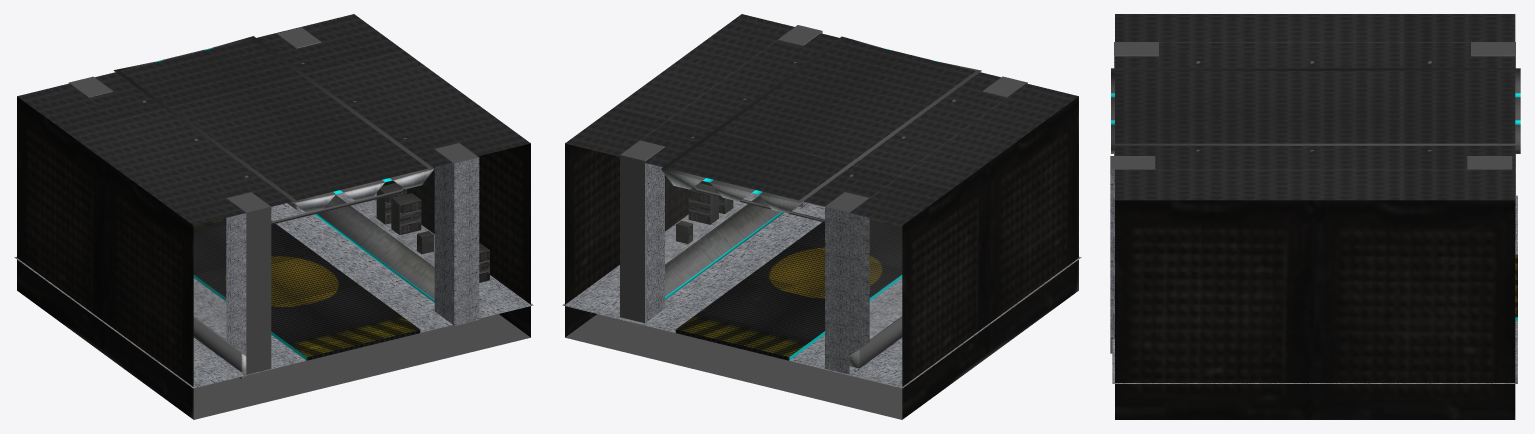
Rendered from HangarInterior.fbx.
3 renders of one model, left to right at view 1: azimuth 30°, elevation 25°; view 2: azimuth 150°, elevation 25°; view 3: azimuth 270°, elevation 25°, orthographic. The views are drawn at different scales.
Visible parts, largest first — view 1: HangarInterior; view 2: HangarInterior; view 3: HangarInterior.
Part boxes in pixels (x1,y1,x2,y2): HangarInterior: (14,14,533,419); HangarInterior: (562,14,1081,419); HangarInterior: (1110,14,1520,419).
Size of what is drawn, in the model's own units: 5261 by 2887 by 4853.
Materials: 3 (1 with a texture image).
